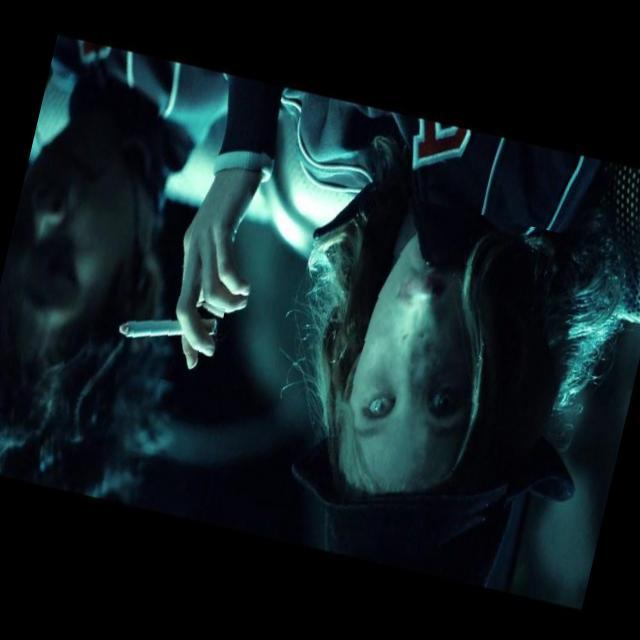cigarette: (100, 279, 227, 390)
